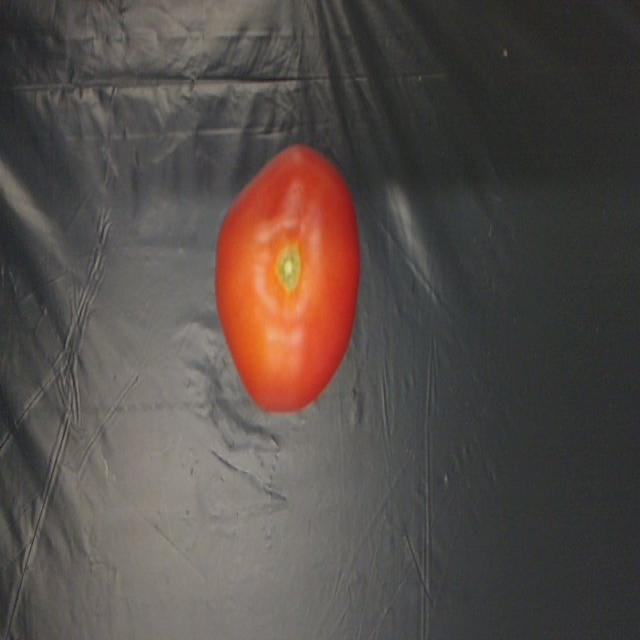sari: (201, 158, 383, 412)
